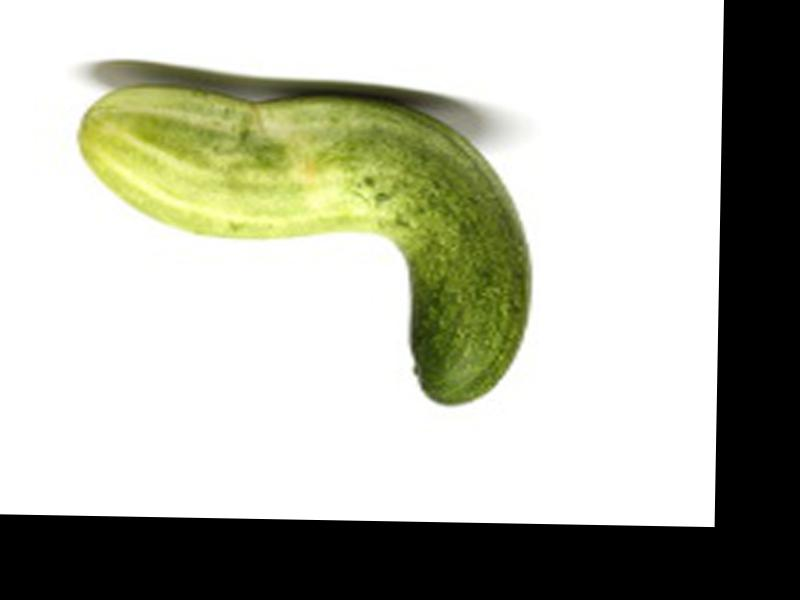Cucumber: (72, 81, 536, 406)
